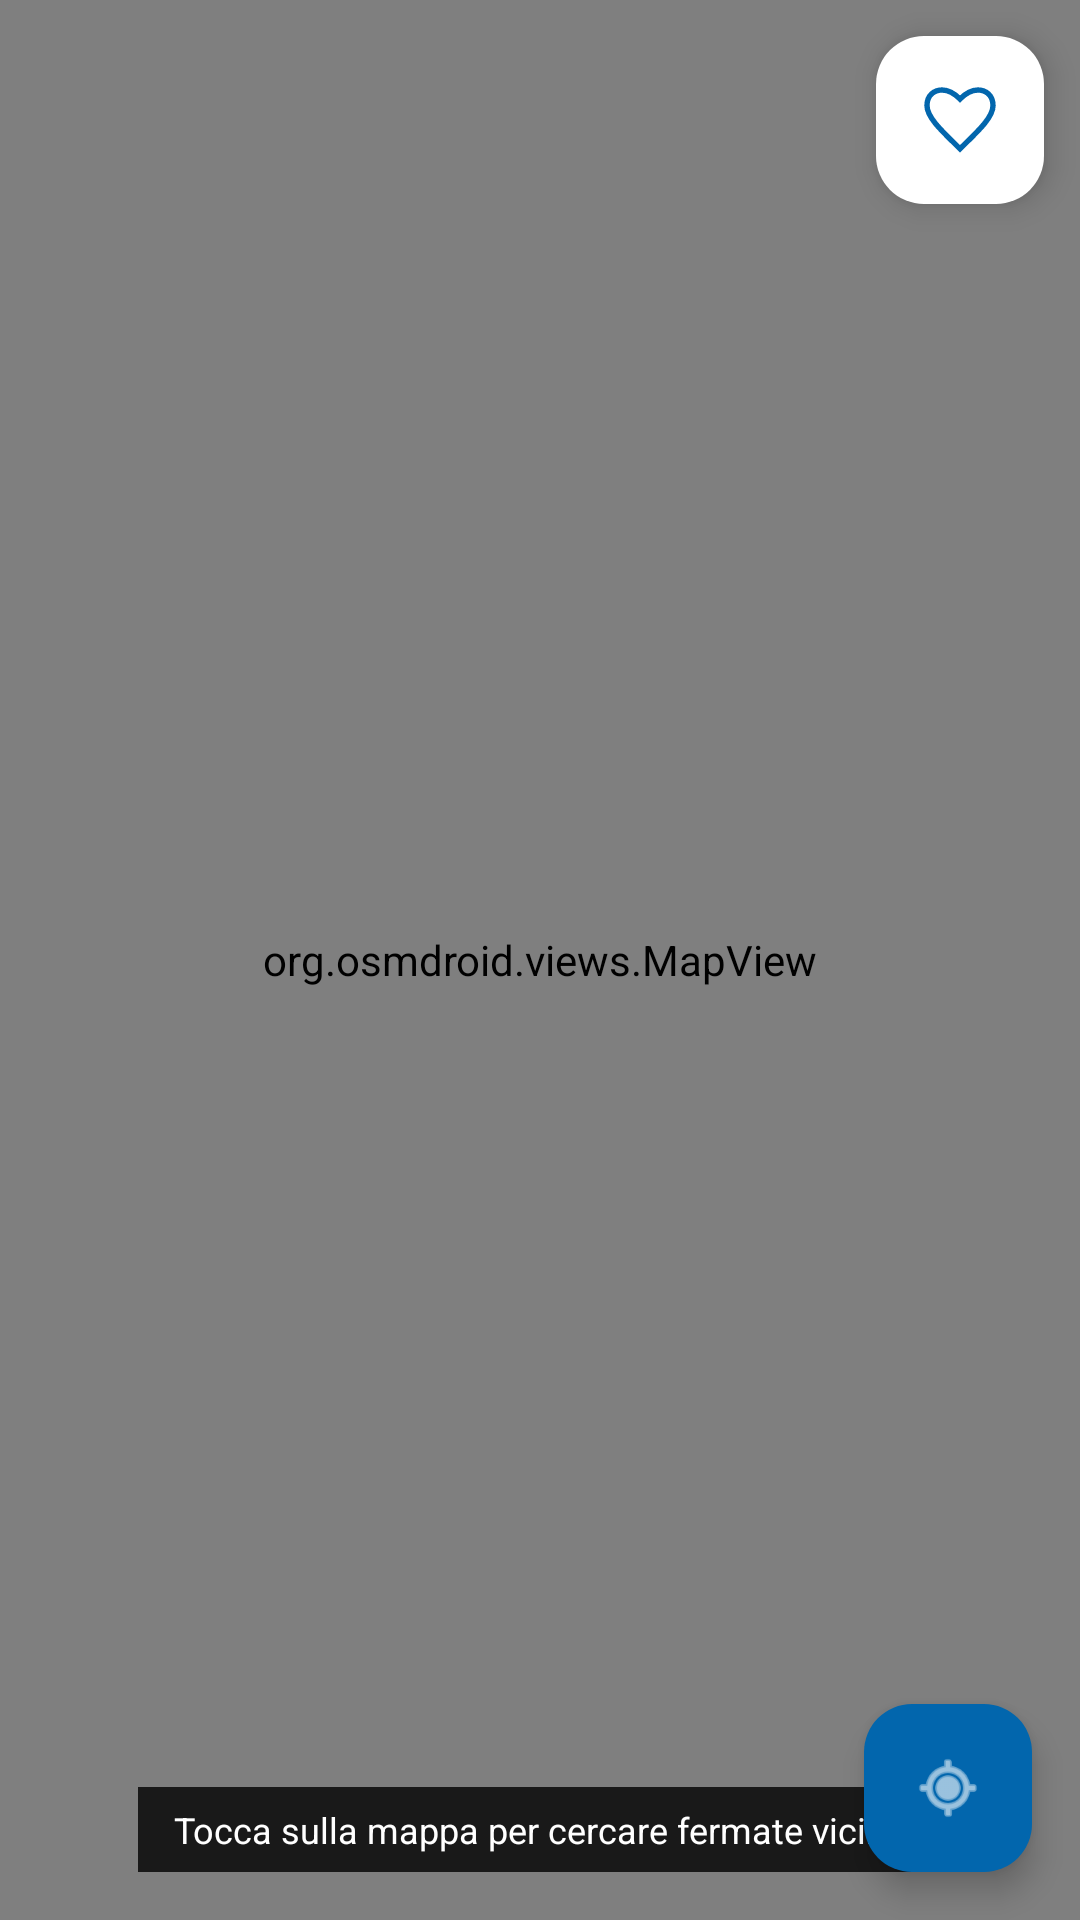

Named icons in this screenshot (1080 × 1920) and their bounding boxes, (x1, y1, x2, y2):
Fermate preferite: (876, 36, 1044, 204)
Posizione attuale: (864, 1704, 1032, 1872)
